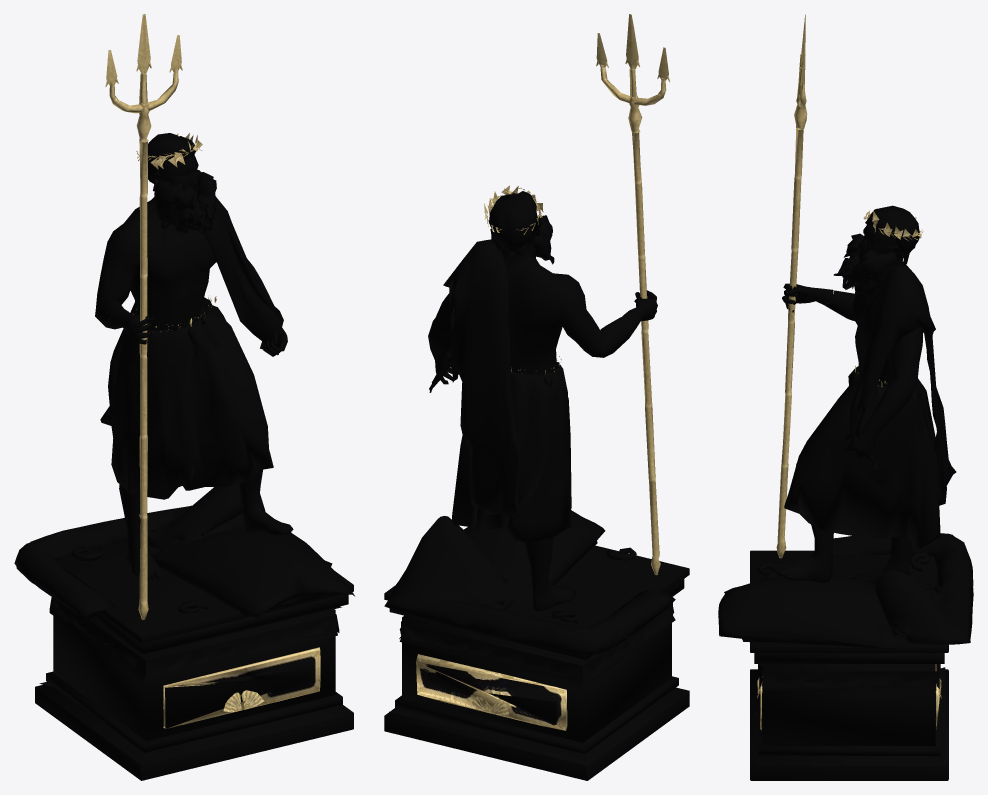
The model's file is guardian-tides-mobile.glb.
The picture shows the model from 3 angles, left to right: view 1: azimuth 30°, elevation 25°; view 2: azimuth 150°, elevation 25°; view 3: azimuth 270°, elevation 25°; orthographic projection. The views are drawn at different scales.
Visible parts, largest first — view 1: TIDES__PEDESTAL, TIDES__CLOTH, TIDES__WAVES, TIDES__BODY, TIDES__TRIDENT, TIDES__DETAILS, TIDES__HAIR_BEARD, TIDES__FACE, TIDES__HAND_GRIP; view 2: TIDES__PEDESTAL, TIDES__CLOTH, TIDES__WAVES, TIDES__BODY, TIDES__DETAILS, TIDES__TRIDENT, TIDES__HAIR_BEARD, TIDES__HAND_GRIP; view 3: TIDES__PEDESTAL, TIDES__CLOTH, TIDES__WAVES, TIDES__BODY, TIDES__TRIDENT, TIDES__HAIR_BEARD, TIDES__HAND_GRIP, TIDES__FACE, TIDES__DETAILS.
Part boxes in pixels (box(x1,y1,x2,y2)): TIDES__PEDESTAL: box(35, 541, 353, 780); TIDES__CLOTH: box(100, 196, 283, 499); TIDES__WAVES: box(14, 483, 354, 618); TIDES__BODY: box(95, 176, 293, 579); TIDES__TRIDENT: box(105, 14, 182, 619); TIDES__DETAILS: box(132, 133, 320, 728); TIDES__HAIR_BEARD: box(148, 133, 216, 234); TIDES__FACE: box(152, 156, 199, 200); TIDES__HAND_GRIP: box(109, 308, 155, 344); TIDES__PEDESTAL: box(384, 545, 689, 780); TIDES__CLOTH: box(429, 239, 571, 542); TIDES__WAVES: box(384, 510, 675, 654); TIDES__BODY: box(428, 245, 633, 610); TIDES__DETAILS: box(416, 185, 567, 730); TIDES__TRIDENT: box(596, 14, 669, 574); TIDES__HAIR_BEARD: box(489, 191, 554, 264); TIDES__HAND_GRIP: box(622, 290, 657, 333); TIDES__PEDESTAL: box(750, 550, 948, 780); TIDES__CLOTH: box(784, 265, 956, 548); TIDES__WAVES: box(718, 533, 973, 649); TIDES__BODY: box(770, 253, 925, 583); TIDES__TRIDENT: box(776, 14, 807, 558); TIDES__HAIR_BEARD: box(833, 205, 919, 295); TIDES__HAND_GRIP: box(782, 283, 834, 312); TIDES__FACE: box(858, 224, 900, 266); TIDES__DETAILS: box(757, 208, 941, 730).
Bounding box in the file's own units: 3.37 × 9.9 × 3.35.
Materials: 3 (3 with a texture image).
